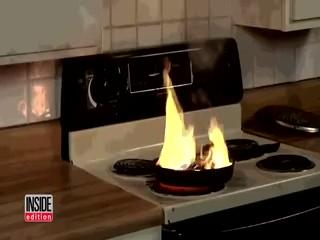Fire: (153, 39, 234, 171)
